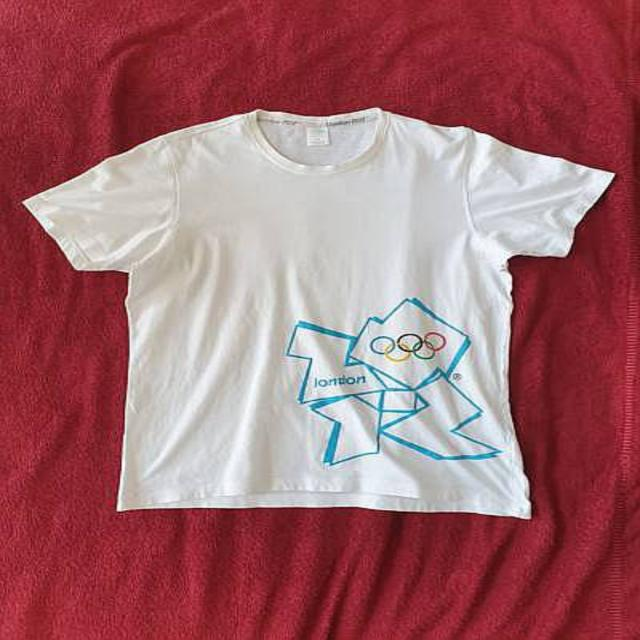T_SHIRT: (16, 95, 631, 531)
